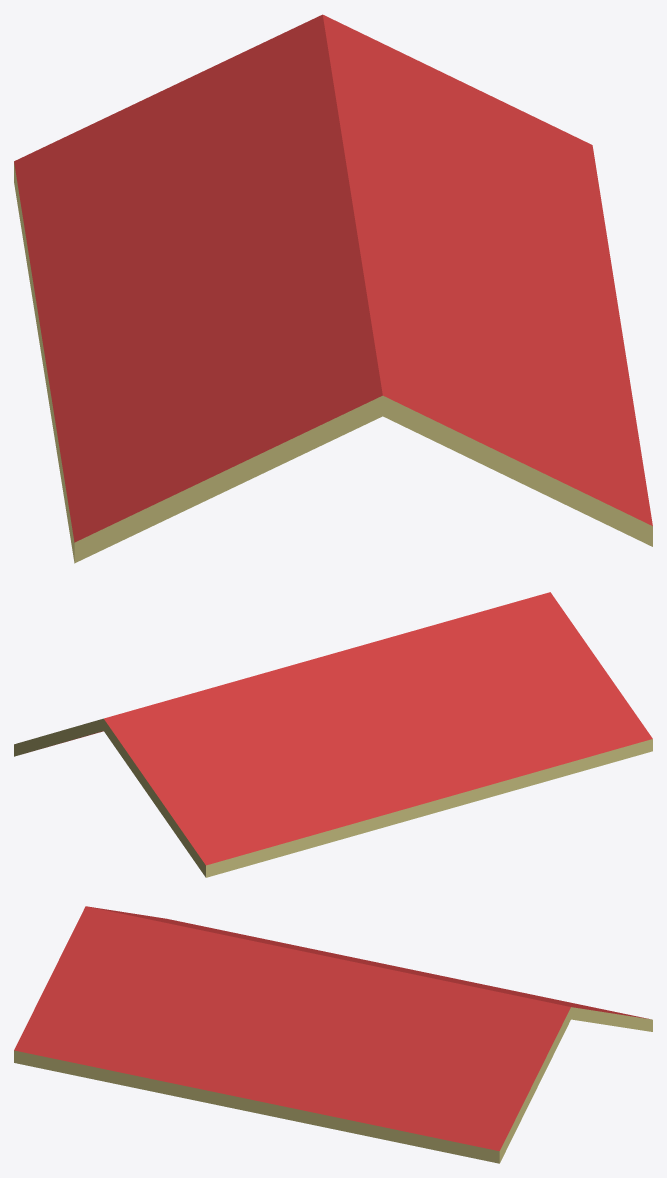
3 renders of one model, top to bottom at view 1: azimuth 30°, elevation 25°; view 2: azimuth 150°, elevation 25°; view 3: azimuth 270°, elevation 25°, orthographic. The views are drawn at different scales.
Bounding box in the file's own units: 4 × 4.64 × 0.764.
